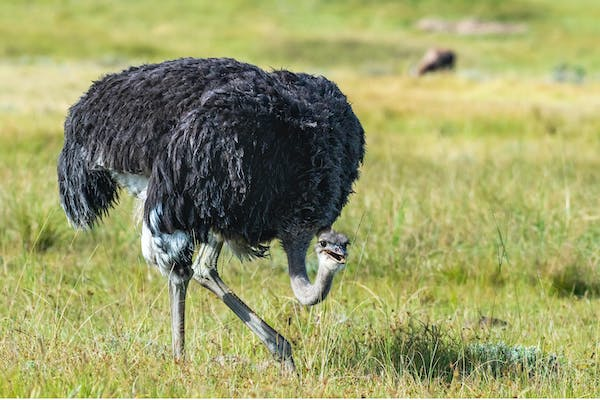Walking: (20, 49, 419, 381)
